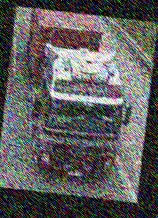truck: (13, 9, 144, 186)
